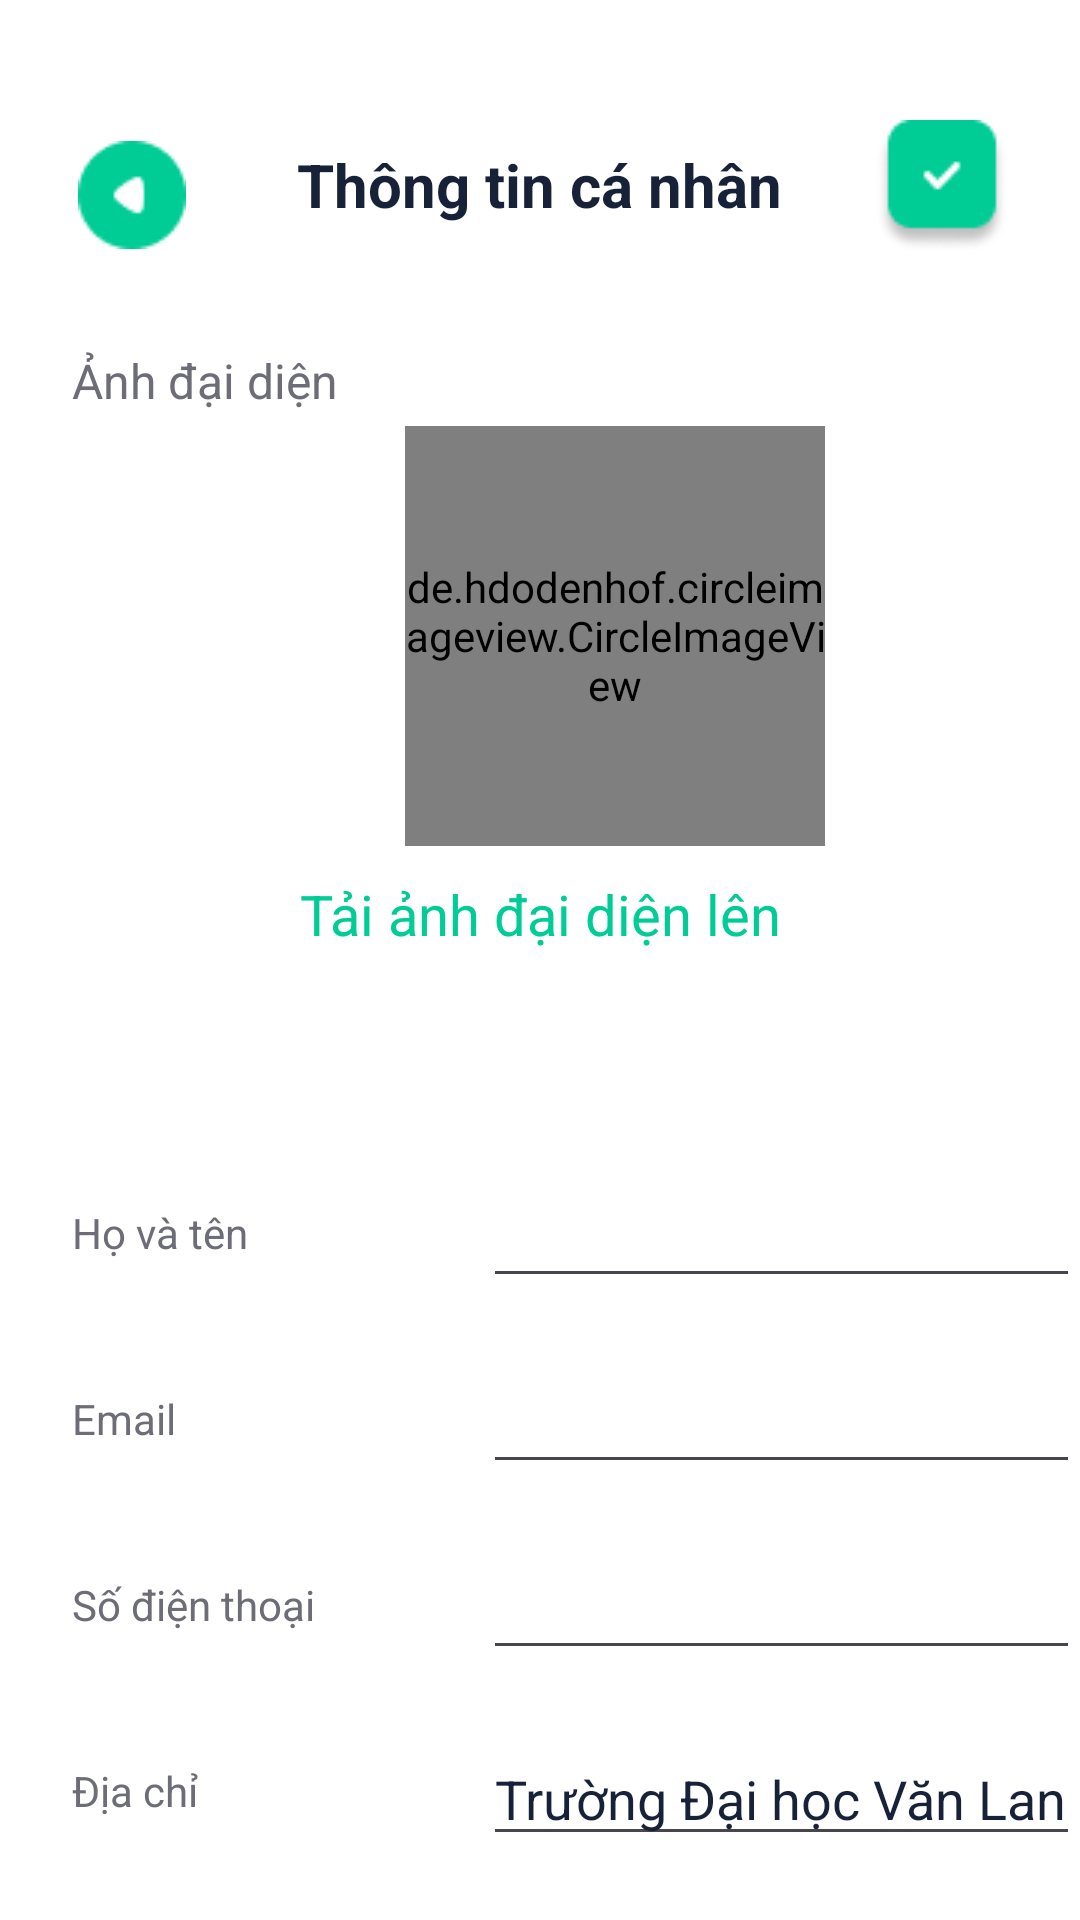

Named icons in this screenshot (1080 × 1920) and their bounding boxes, (x1, y1, x2, y2):
back: (78, 141, 186, 249)
checked: (886, 120, 998, 242)
